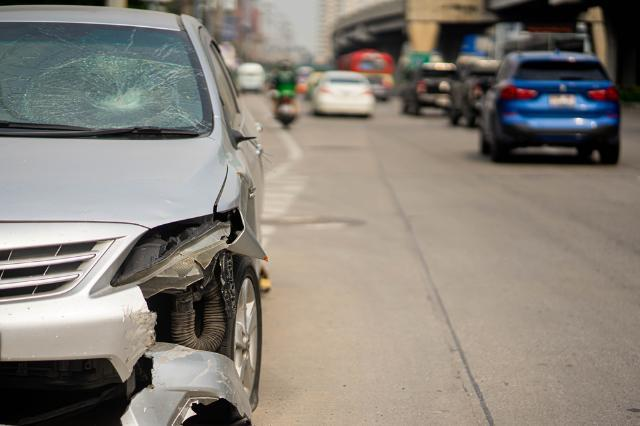crack: (121, 355, 155, 420)
dislocated part: (122, 247, 252, 426)
glass shatter: (0, 22, 213, 136)
lamp broken: (117, 209, 249, 290)
scratch: (120, 310, 157, 366)
